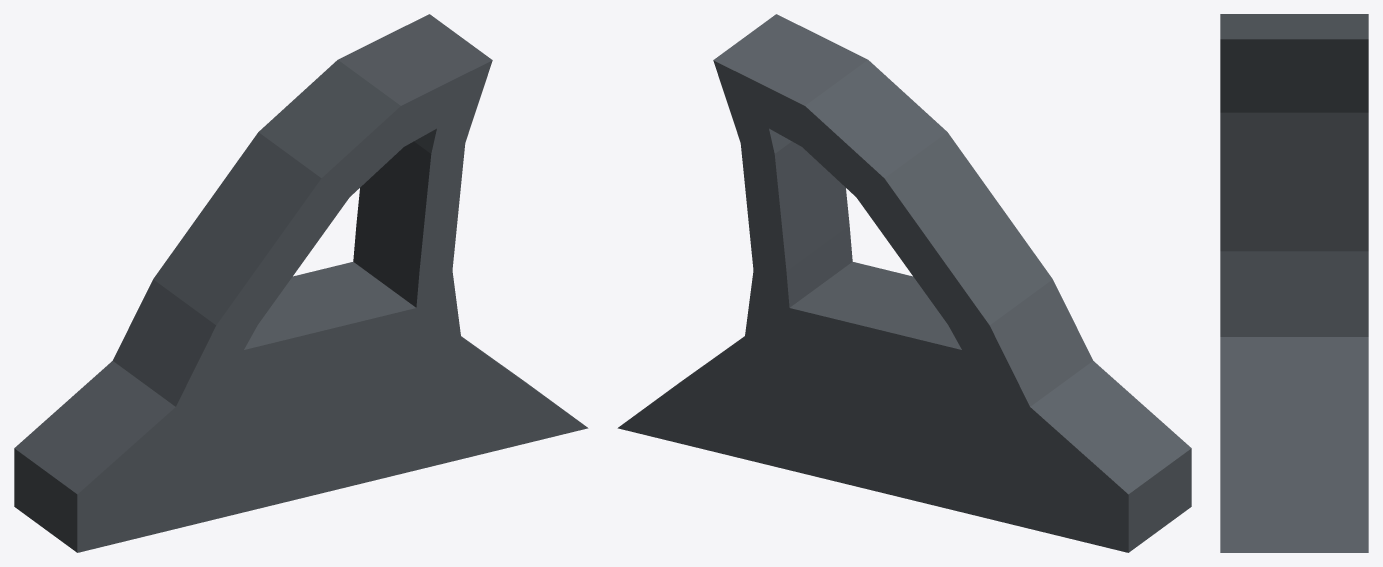
Rendered from Shotgun1_02_3.fbx.
The picture shows the model from 3 angles, left to right: view 1: azimuth 30°, elevation 25°; view 2: azimuth 150°, elevation 25°; view 3: azimuth 270°, elevation 25°; orthographic projection. The views are drawn at different scales.
Parts seen in each view (by area): view 1: Shotgun1_02_3; view 2: Shotgun1_02_3; view 3: Shotgun1_02_3.
Part boxes in pixels (x1,y1,x2,y2): Shotgun1_02_3: (14,14,588,552); Shotgun1_02_3: (617,14,1191,552); Shotgun1_02_3: (1220,14,1368,552).
Bounding box in the file's own units: 0.0411 × 0.0301 × 0.00879.
